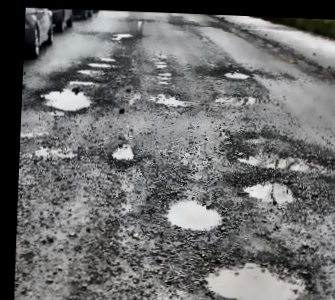pothole: (200, 251, 316, 300), (226, 132, 335, 176), (164, 192, 230, 234), (239, 172, 309, 207), (38, 84, 95, 112), (110, 143, 138, 162), (224, 69, 254, 80), (111, 30, 135, 41), (87, 59, 113, 67), (77, 67, 104, 73)
